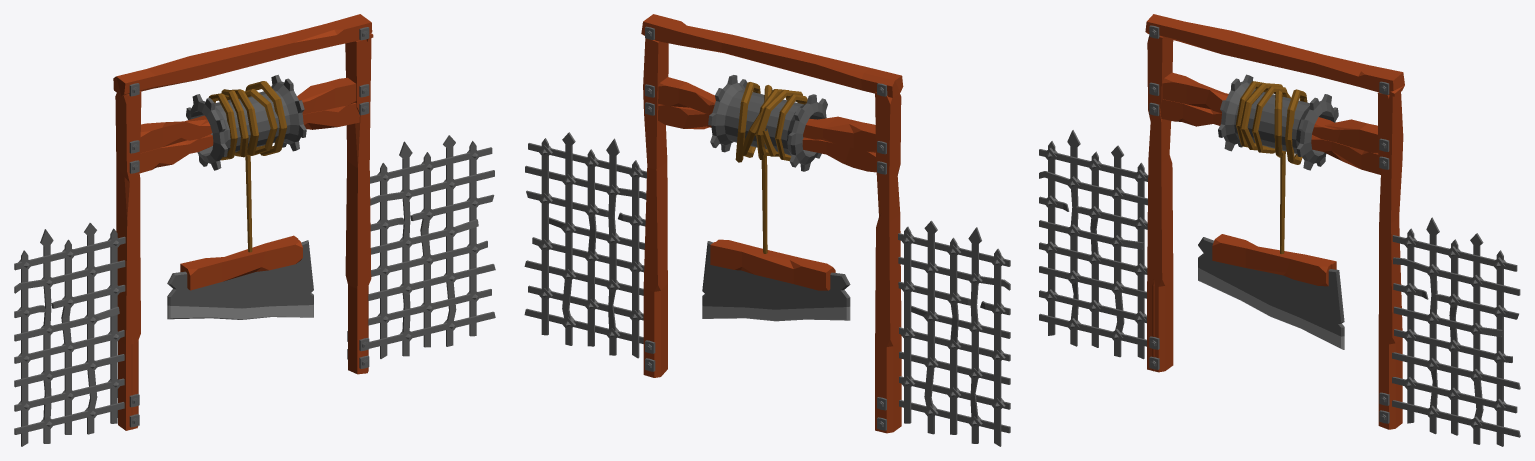
Rendered from obstacle gyotine.fbx.
3 renders of one model, left to right at view 1: azimuth 30°, elevation 25°; view 2: azimuth 150°, elevation 25°; view 3: azimuth 330°, elevation 25°, orthographic.
Parts seen in each view (by area): view 1: giyotine base.001, Gyotine.001, giyotine cylinder.001; view 2: giyotine base.001, Gyotine.001, giyotine cylinder.001; view 3: giyotine base.001, Gyotine.001, giyotine cylinder.001.
Boxes of the visible parts, x1,y1,x2,y2 form: giyotine base.001: [14, 14, 495, 446]; Gyotine.001: [167, 156, 313, 319]; giyotine cylinder.001: [186, 74, 306, 170]; giyotine base.001: [524, 14, 1010, 446]; Gyotine.001: [702, 156, 850, 321]; giyotine cylinder.001: [708, 75, 827, 171]; giyotine base.001: [1039, 14, 1520, 446]; Gyotine.001: [1198, 151, 1344, 349]; giyotine cylinder.001: [1218, 74, 1338, 170].
Size of the model in its own units: 825 by 575 by 116.
